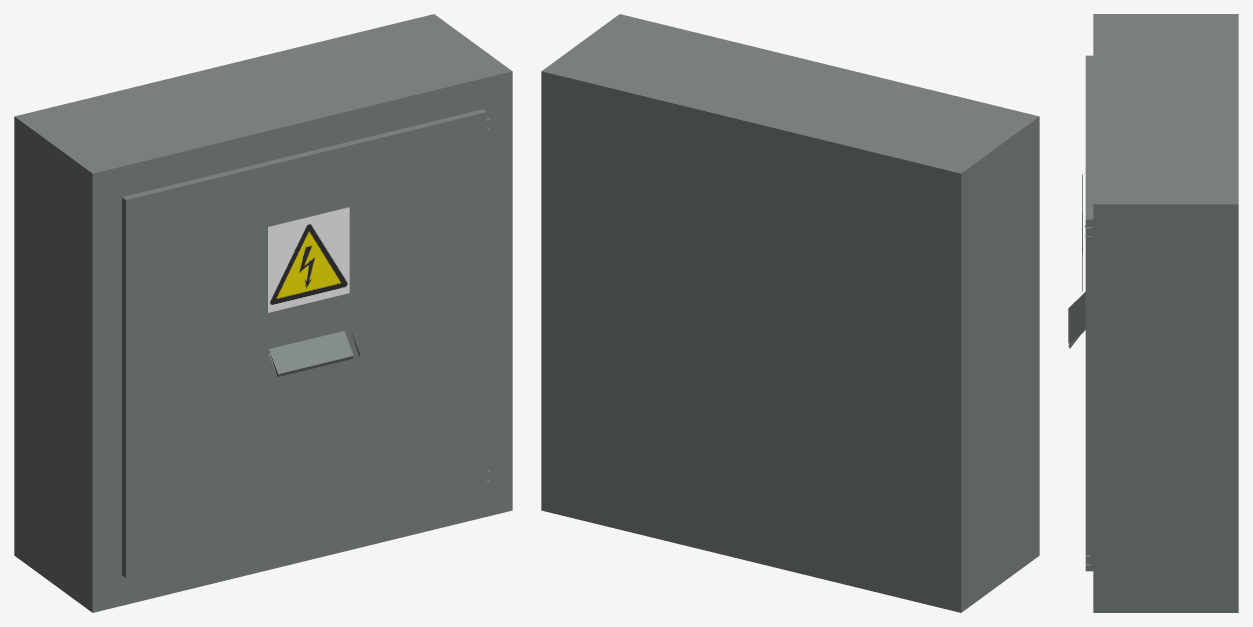
File: dc_panel.glb
The picture shows the model from 3 angles, left to right: view 1: azimuth 30°, elevation 25°; view 2: azimuth 150°, elevation 25°; view 3: azimuth 270°, elevation 25°; orthographic projection. The views are drawn at different scales.
Visible parts, largest first — view 1: Distribution box; view 2: Distribution box; view 3: Distribution box.
Boxes of the visible parts, x1,y1,x2,y2 form: Distribution box: [14, 14, 512, 612]; Distribution box: [541, 14, 1039, 612]; Distribution box: [1068, 14, 1238, 612].
Size of the model in its own units: 0.069 by 0.069 by 0.0261.
Materials: 2 (1 with a texture image).
